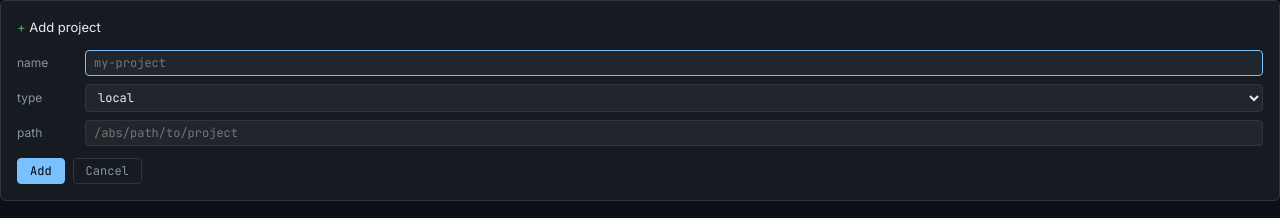
Scenario: TC-020e: AdminAddForm — switching folder→local hides helper text and restores path label
Select "folder" in the dropdown with test id "input-type": (674, 98) left=85, top=84, right=1263, bottom=112
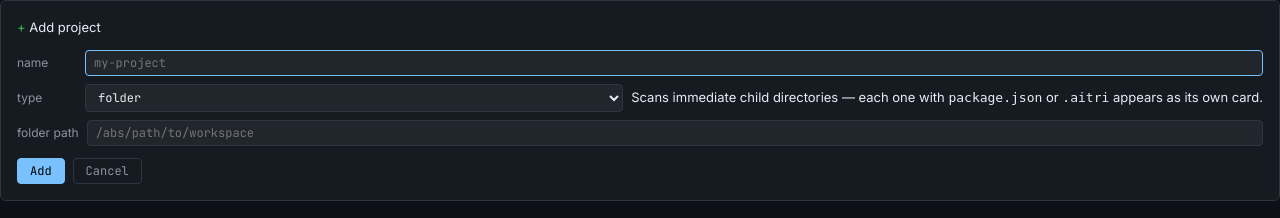
Result: the element with test id "folder-hint" is shown at left=631, top=87, right=1263, bottom=109
Select "local" in the dropdown with test id "input-type": (354, 98) left=85, top=84, right=623, bottom=112
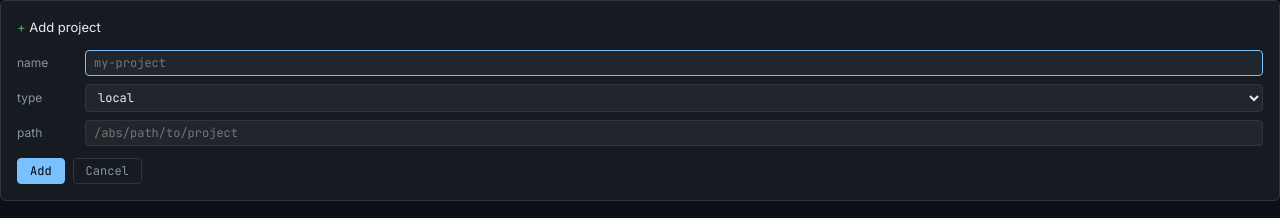
Result: the element with test id "folder-hint" is gone
